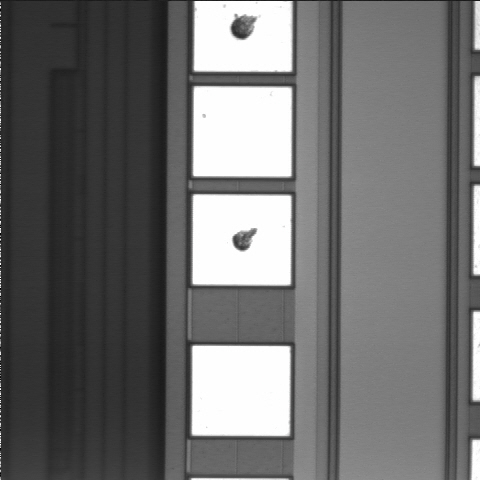pad: (193, 86, 292, 177), (193, 194, 291, 285), (192, 346, 290, 436)
